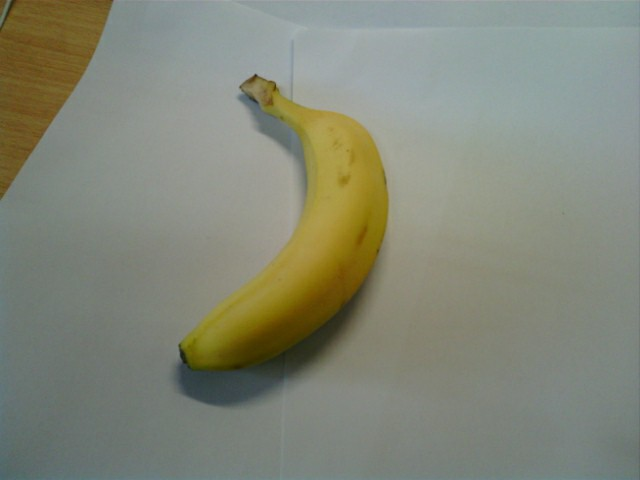fresh_banana: (172, 93, 388, 379)
